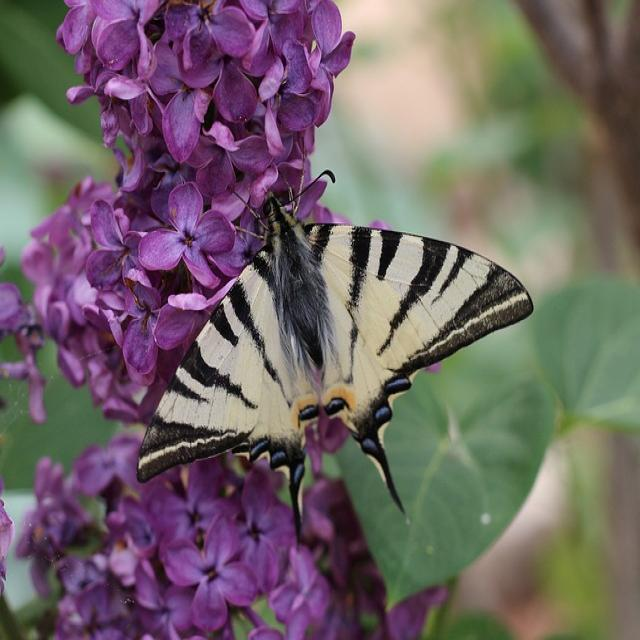butterfly: (136, 177, 536, 580)
